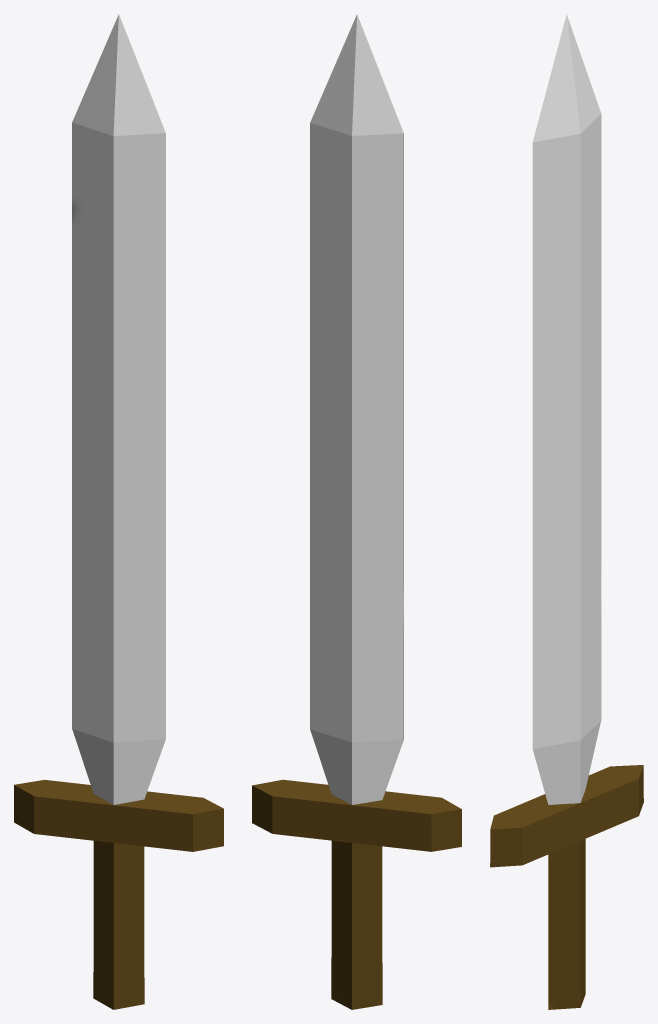
The model's file is sword.glb.
The picture shows the model from 3 angles, left to right: view 1: azimuth 30°, elevation 25°; view 2: azimuth 210°, elevation 25°; view 3: azimuth 270°, elevation 25°; orthographic projection.
Visible parts, largest first — view 1: Cube; view 2: Cube; view 3: Cube.
Boxes of the visible parts, x1,y1,x2,y2 form: Cube: [14, 14, 223, 1009]; Cube: [252, 14, 461, 1009]; Cube: [490, 14, 643, 1009].
Size of the model in its own units: 2.35 by 16.67 by 2.35.
Materials: 1 (1 with a texture image).
